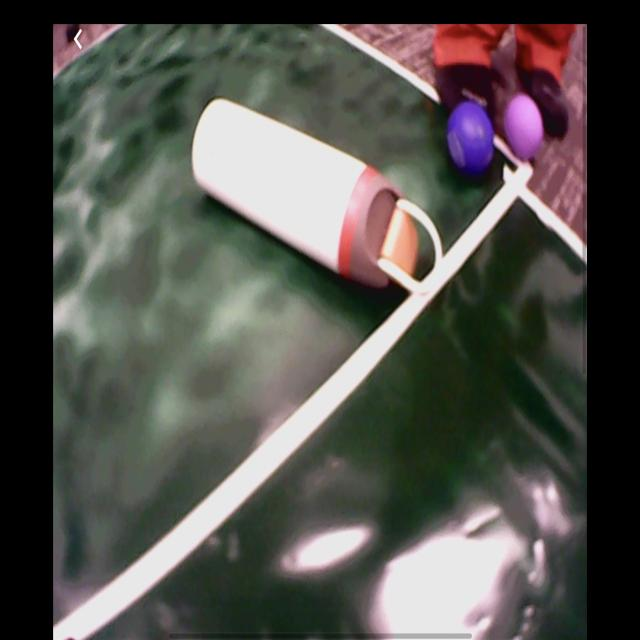ball: (448, 105, 495, 176), (506, 96, 544, 165)
